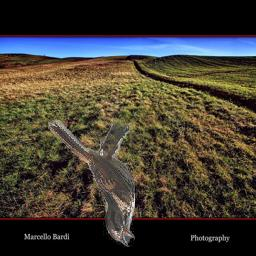Sparrow: (49, 121, 136, 248)
